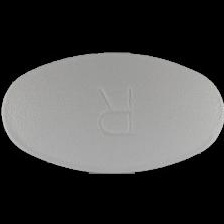10544-604: (0, 0, 224, 224)
